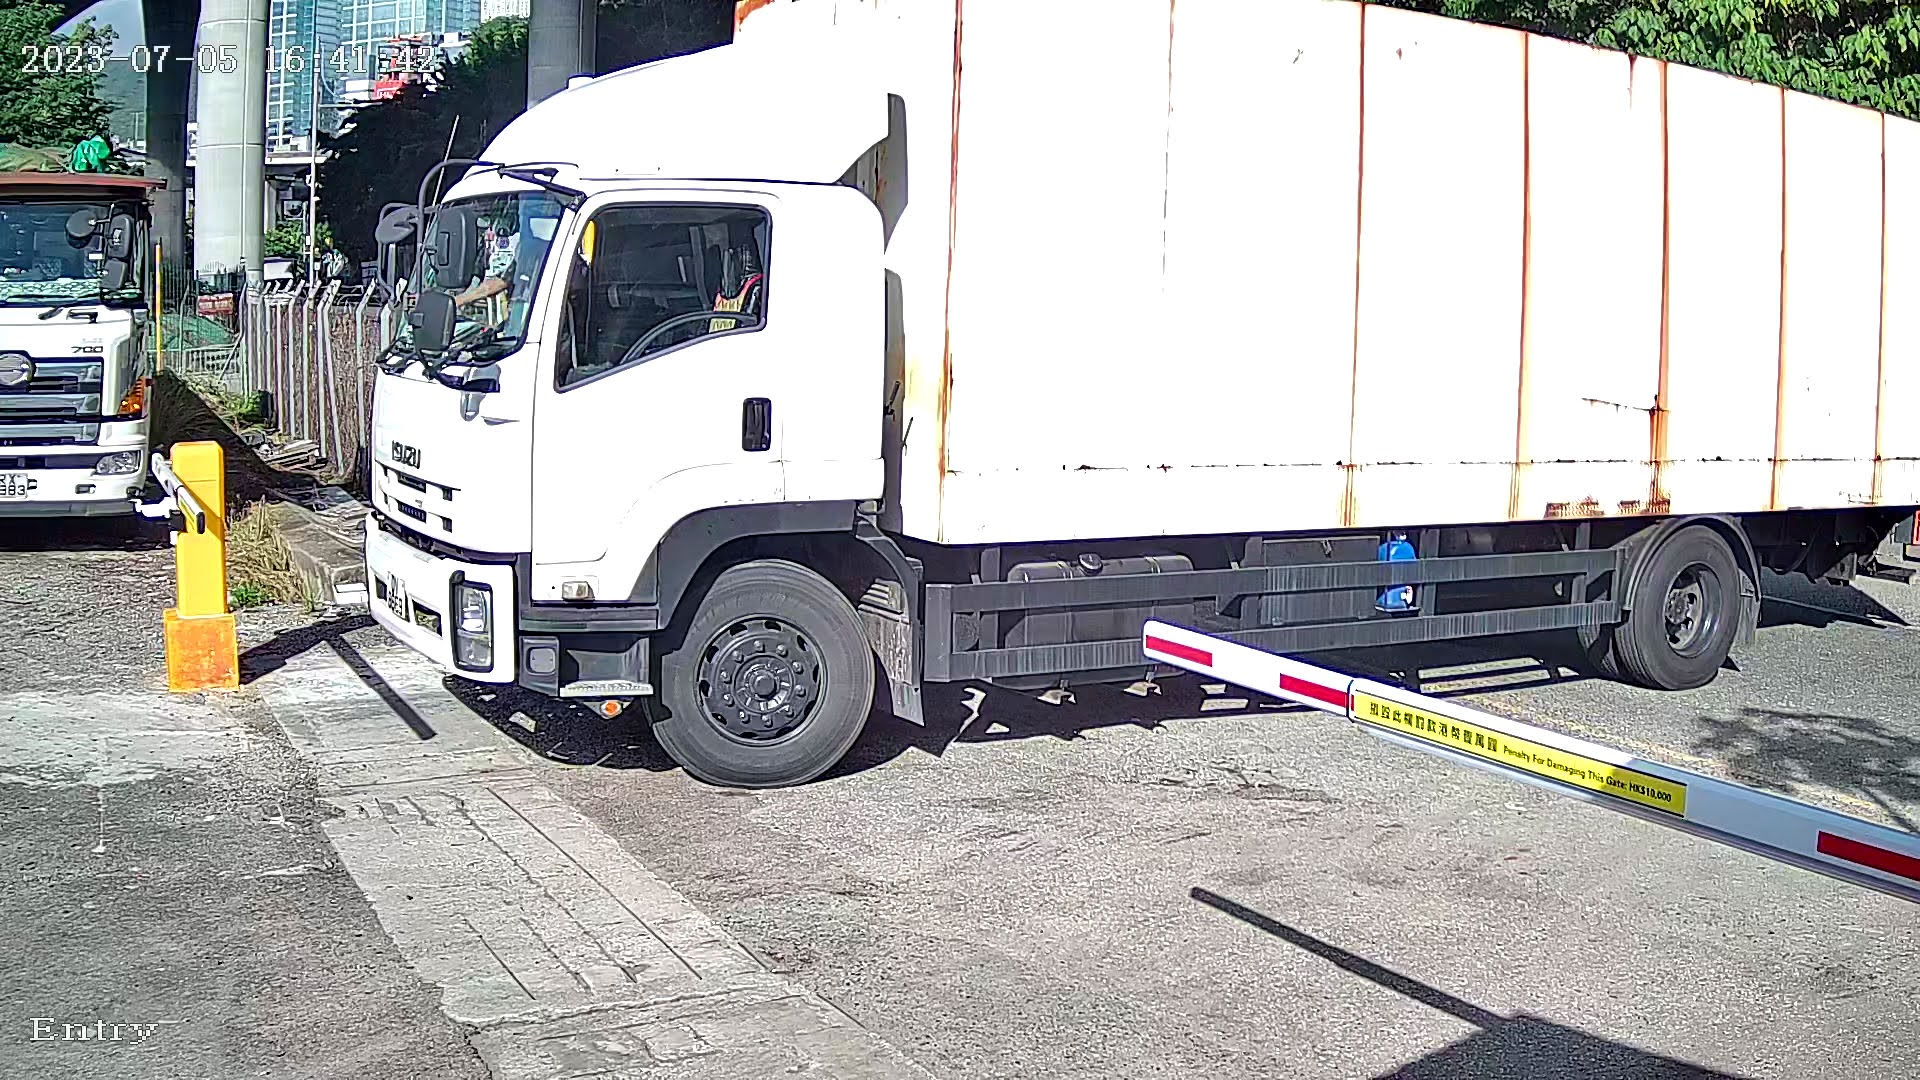truck: (324, 11, 1920, 815)
